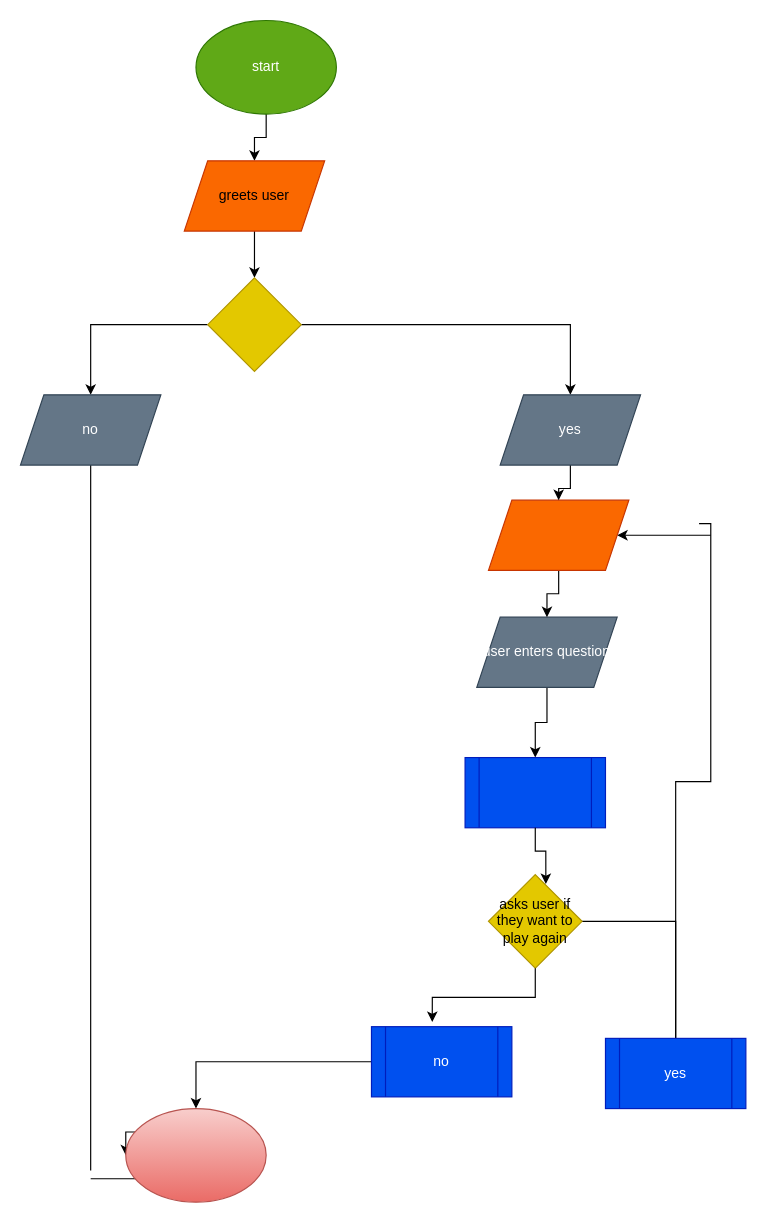
Image size: 766x1223. Some labels were removed from this diagram. The shapes that lost their labels are listed below. From the top down, each one's box as (x1, y1, x2, y2) in pixels, then its label:
(207, 277, 301, 371): asks user if they want to play
(487, 499, 629, 570): prompt user to ask a question
(464, 756, 605, 828): generates a response
(125, 1107, 266, 1202): end
